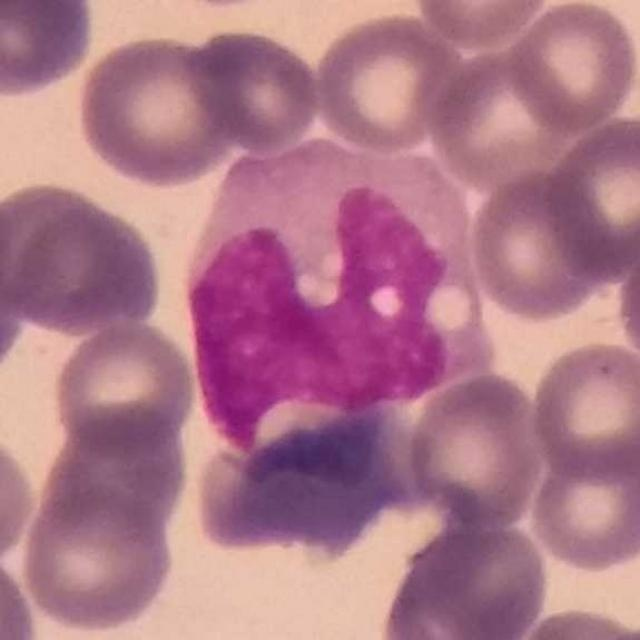Monocyte: (182, 139, 490, 481)
RBC: (218, 413, 402, 561), (72, 30, 240, 190), (1, 177, 166, 339), (17, 478, 180, 636), (28, 409, 194, 556), (466, 165, 614, 325), (308, 8, 468, 156), (403, 368, 548, 531), (424, 44, 578, 192), (373, 516, 554, 640), (48, 318, 200, 458), (181, 23, 325, 156), (504, 0, 640, 134), (541, 111, 640, 283), (525, 337, 640, 483), (525, 440, 640, 576), (0, 0, 99, 101), (410, 0, 556, 51), (0, 426, 40, 571), (504, 603, 639, 640), (0, 179, 24, 386), (613, 224, 640, 378), (0, 545, 41, 640)
